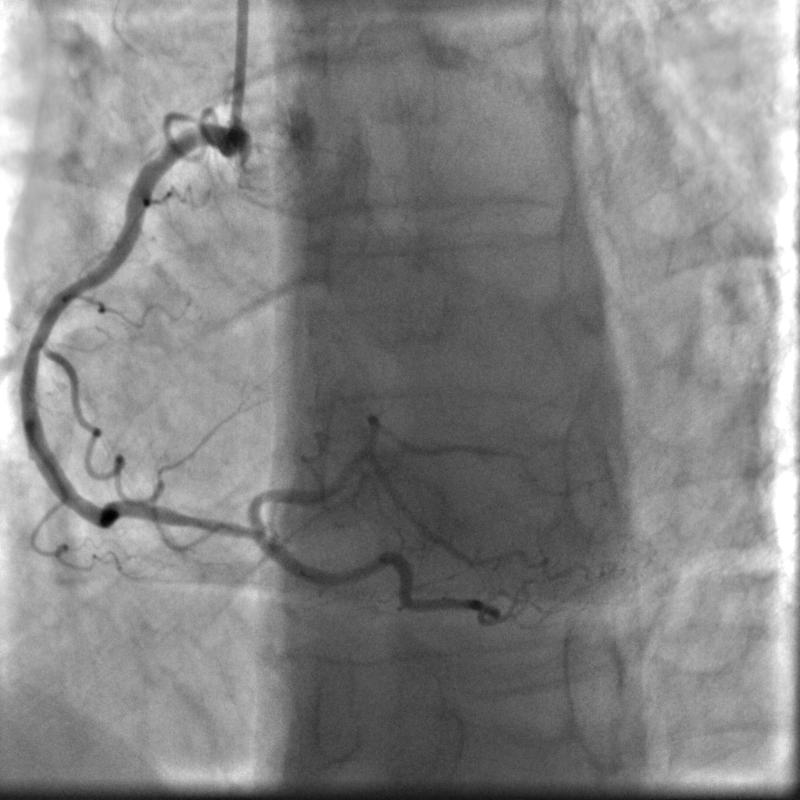Stenosis: (152, 495, 250, 552)
